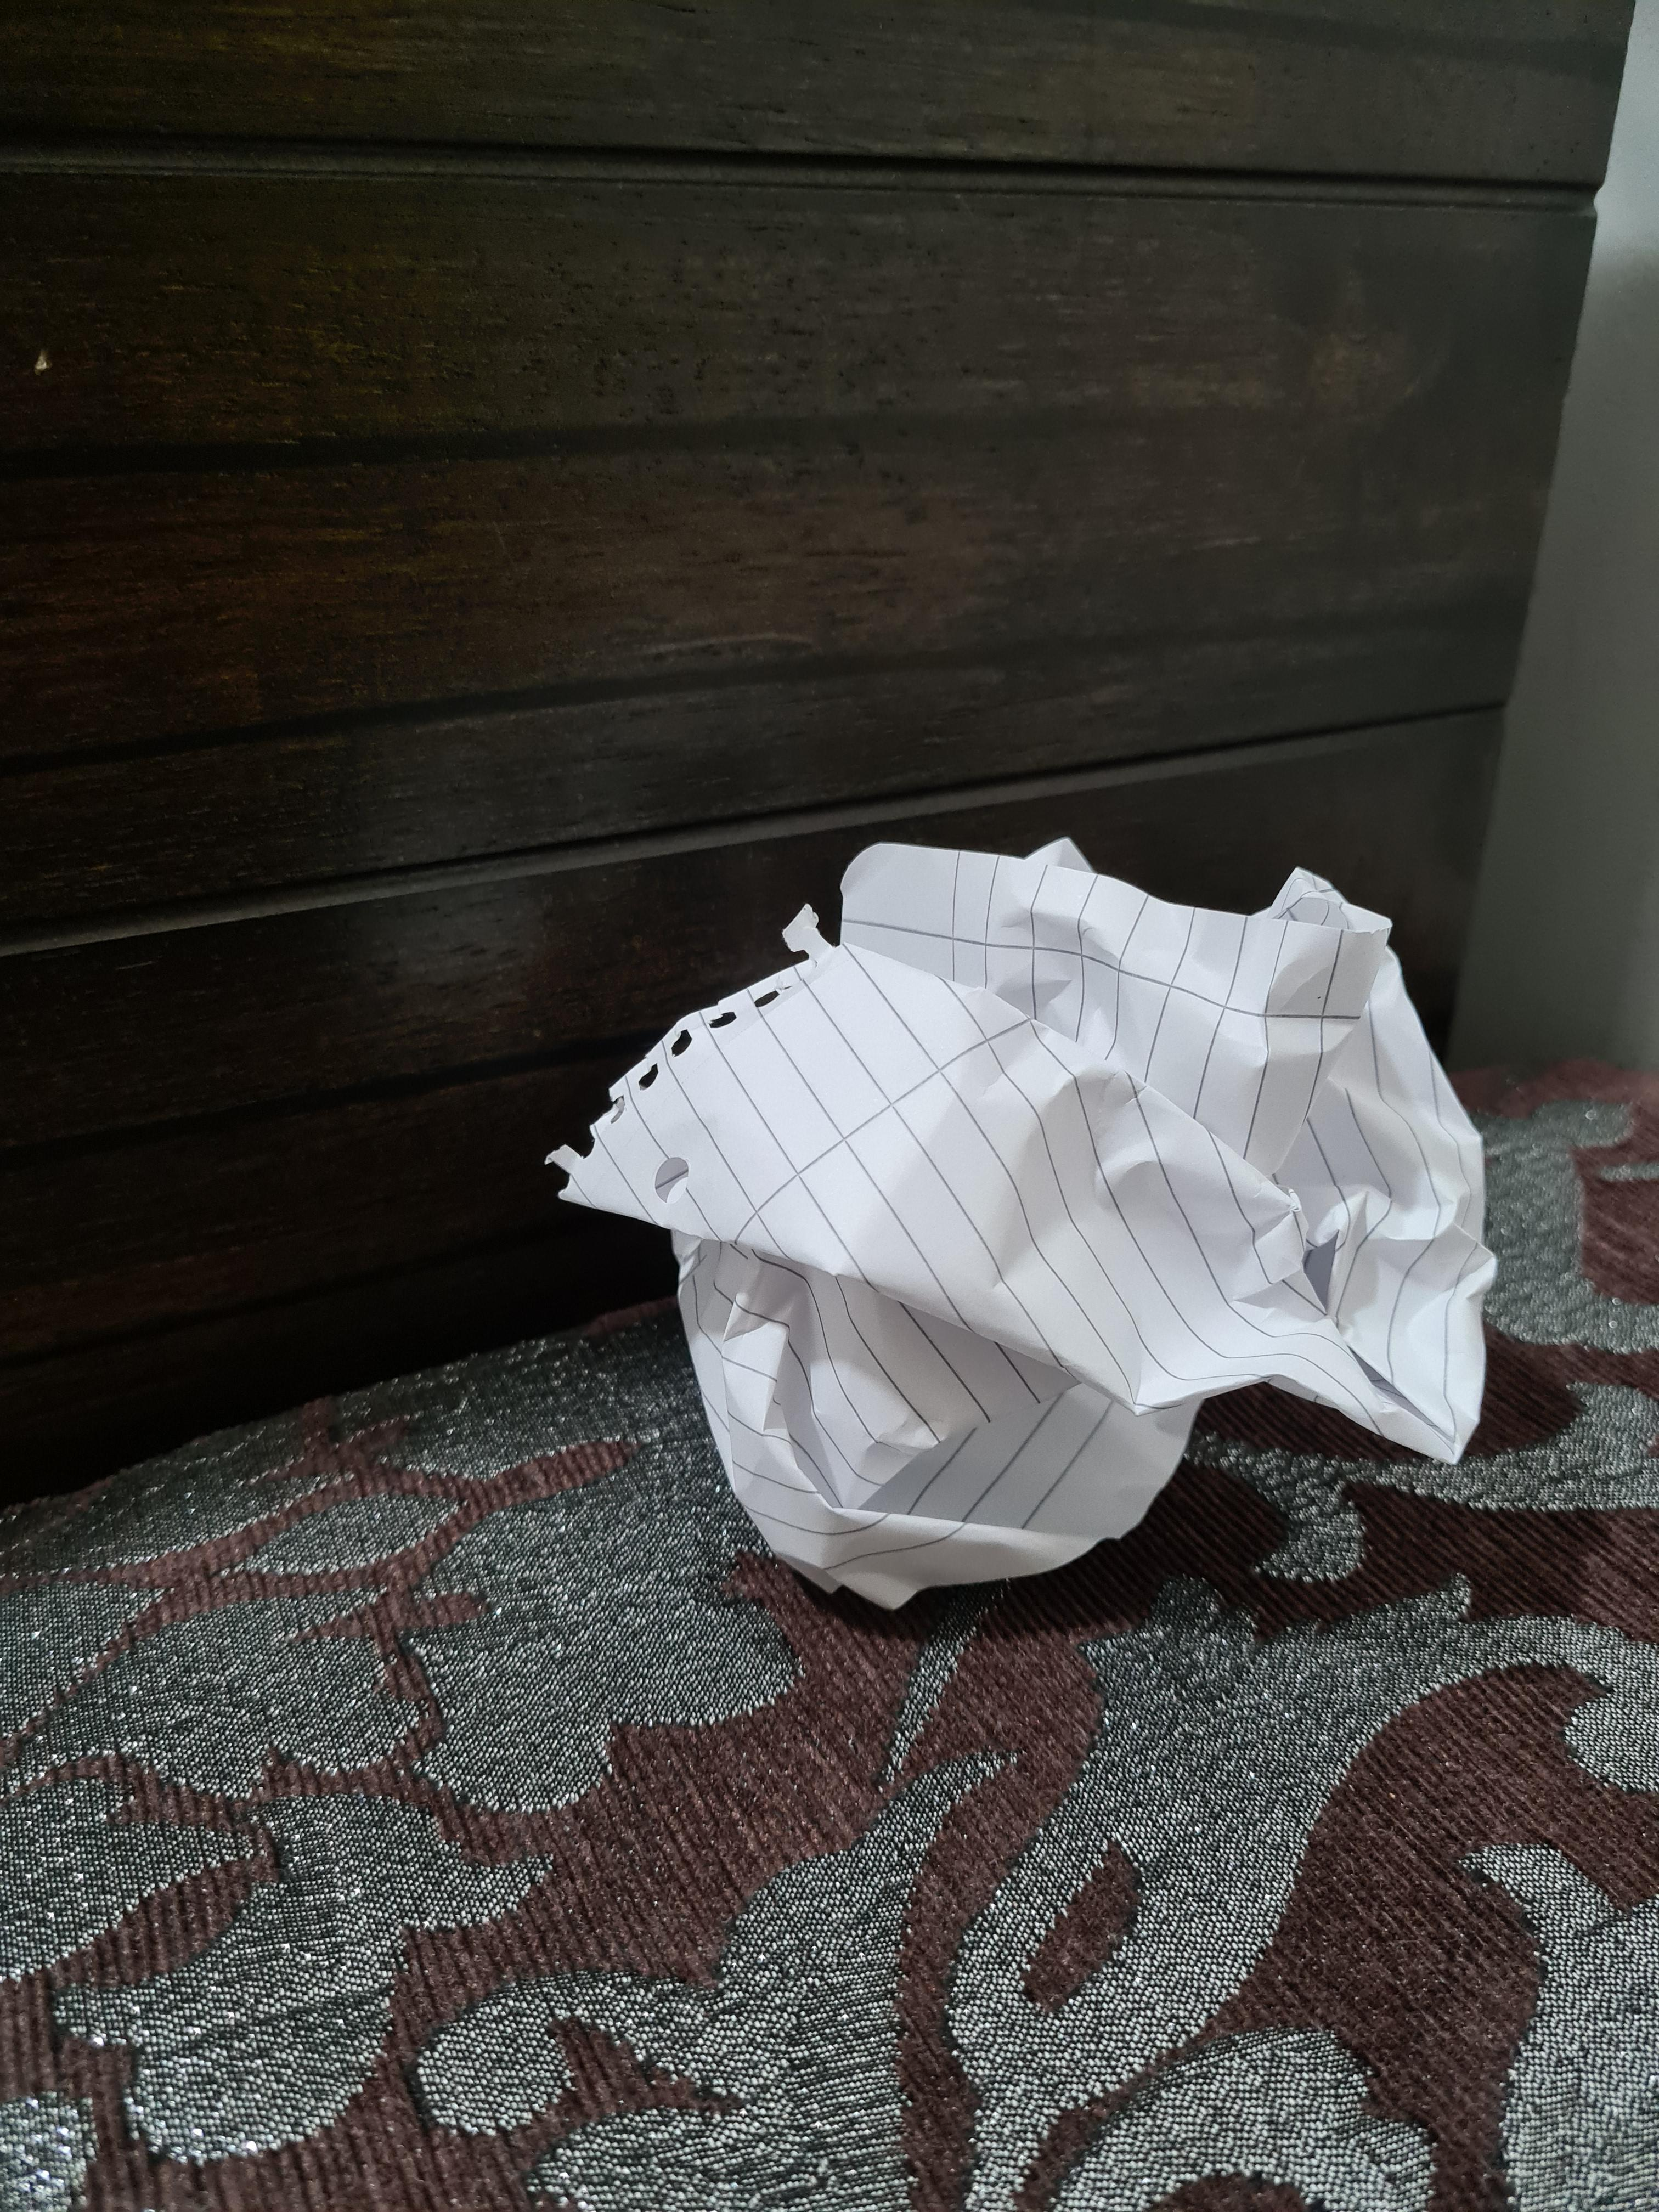Paper: (566, 824, 1522, 1620)
